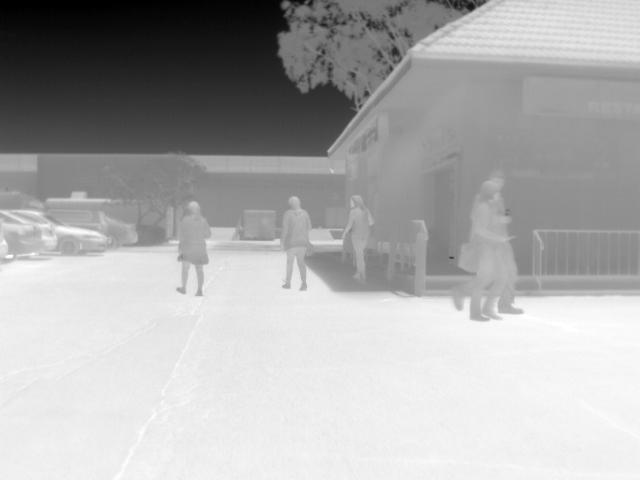car: (6, 208, 106, 252), (0, 211, 58, 259), (0, 212, 41, 263), (42, 208, 106, 233), (103, 209, 138, 248)
person: (465, 181, 517, 320), (489, 173, 523, 314), (175, 198, 212, 295), (281, 193, 314, 290), (340, 194, 375, 283)
